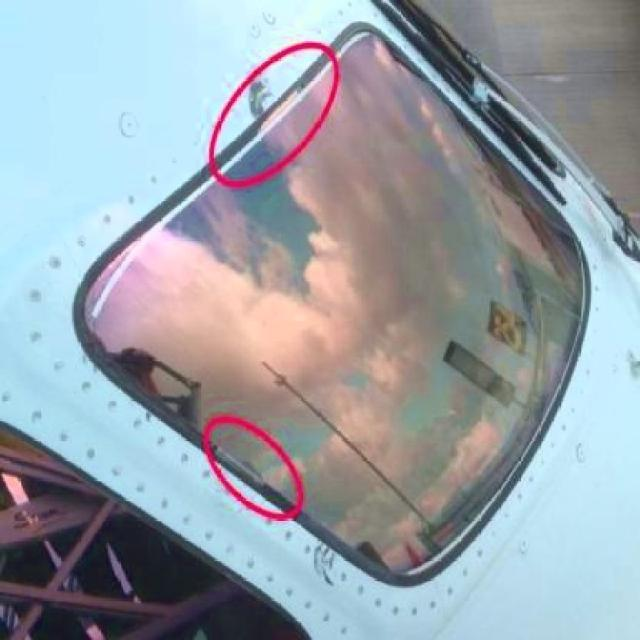crack: (314, 543, 337, 586)
